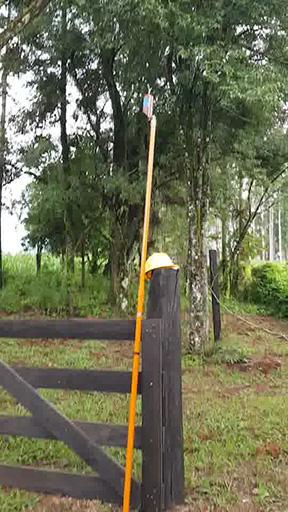Vara_Manobra: (124, 118, 156, 512)
